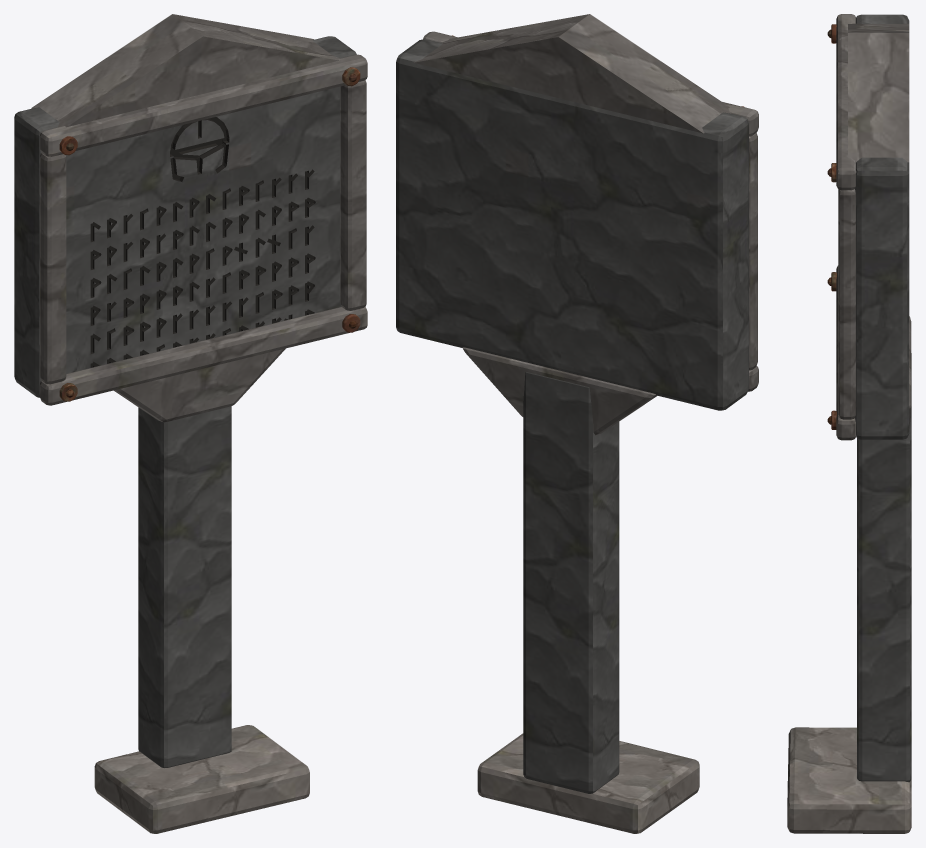
File: th_name_plaque.glb
3 renders of one model, left to right at view 1: azimuth 30°, elevation 25°; view 2: azimuth 150°, elevation 25°; view 3: azimuth 270°, elevation 25°, orthographic. The views are drawn at different scales.
Parts seen in each view (by area): view 1: model; view 2: model; view 3: model.
Boxes of the visible parts, left/top/right/bottom form: model: left=14, top=14, right=367, bottom=833; model: left=396, top=14, right=758, bottom=833; model: left=787, top=14, right=911, bottom=833.
Size of the model in its own units: 0.82 by 1.85 by 0.2728.
6 materials, 5 textured.
